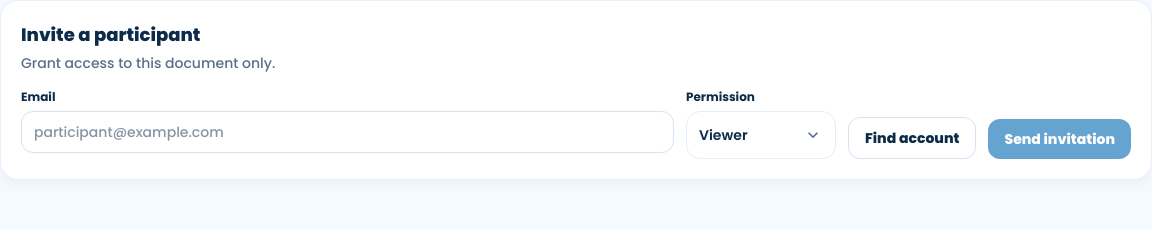
Test case: InviteParticipantForm account lookup › looks up an account only when requested and shows the matching user
Type "person@example.com" into the field labelled "Email".
click(348, 132); type("person@example.com")  # box left=21, top=111, right=674, bottom=153
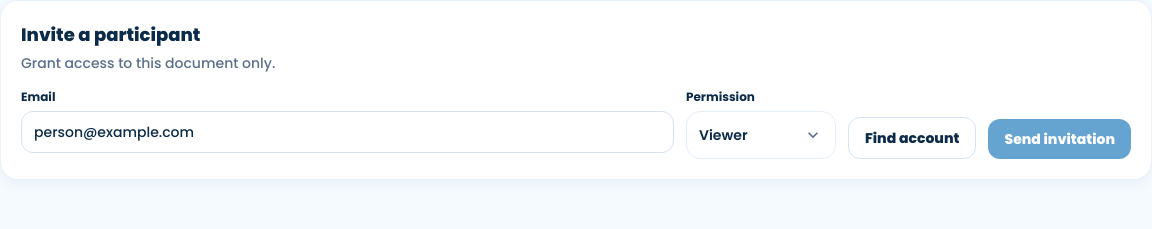
Click the button "Find account".
click(912, 138)  # box left=848, top=117, right=976, bottom=159
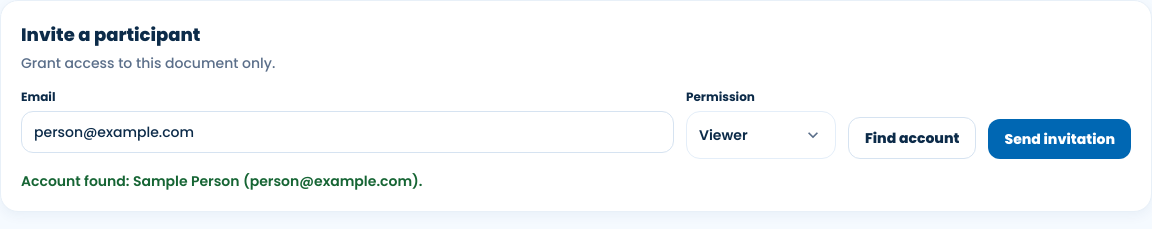
Now the text "Account found: Sample Person (person@example.com)." is shown, box left=21, top=171, right=422, bottom=191
